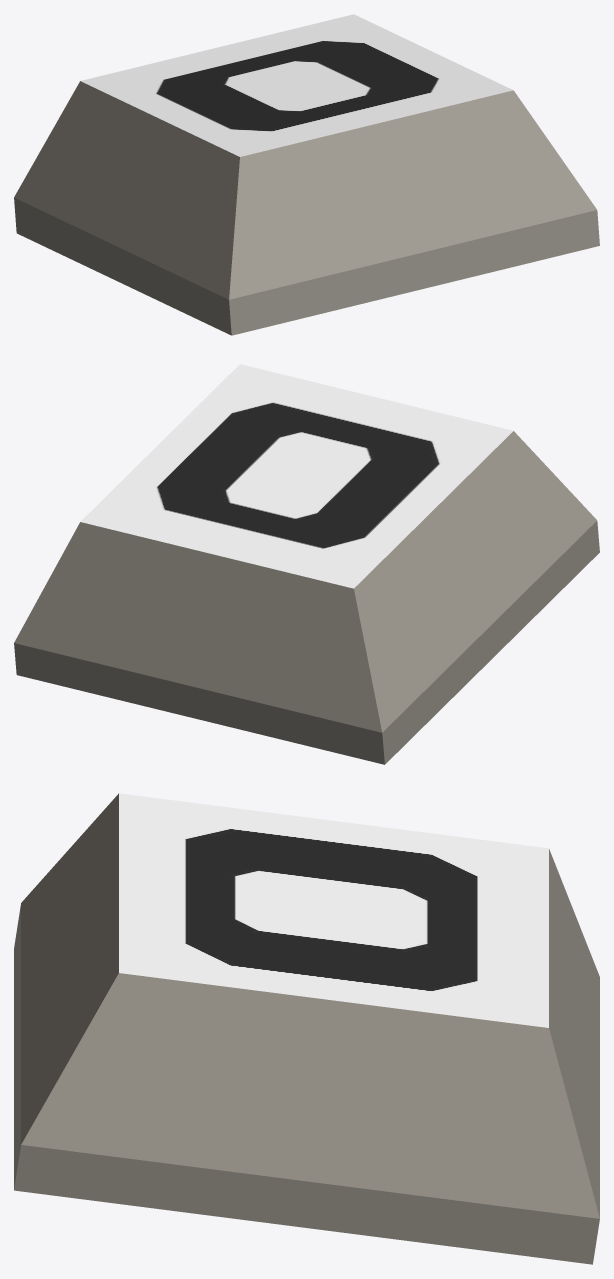
Rendered from key0.glb.
3 views of the same model, one above another, from view 1: azimuth 30°, elevation 25°; view 2: azimuth 150°, elevation 25°; view 3: azimuth 270°, elevation 25° (orthographic). The views are drawn at different scales.
Visible parts, largest first — view 1: Cube.014; view 2: Cube.014; view 3: Cube.014.
Part boxes in pixels (box(x1,y1,x2,y2)): Cube.014: box(14, 14, 599, 335); Cube.014: box(14, 364, 599, 764); Cube.014: box(14, 793, 599, 1264).
Bounding box in the file's own units: 0.1926 × 0.0968 × 0.1972.
2 materials, 1 textured.
